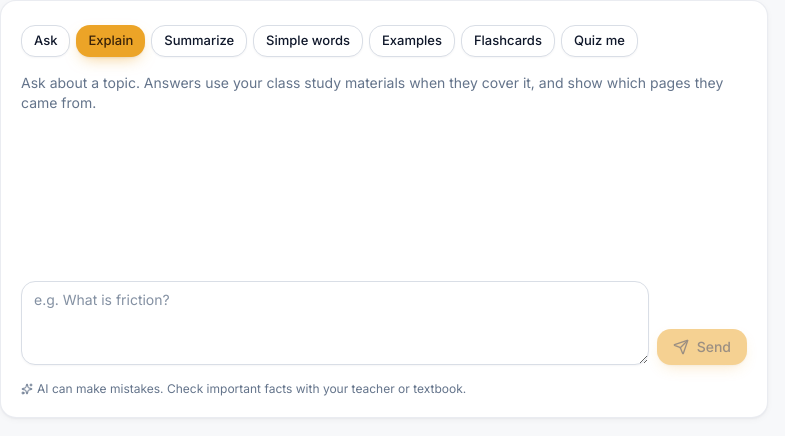
StudyAssistantTab › shows errors in the conversation
Type "x" into the text box named "Study question" at (335, 323), box [21, 281, 649, 365]
Then press Enter
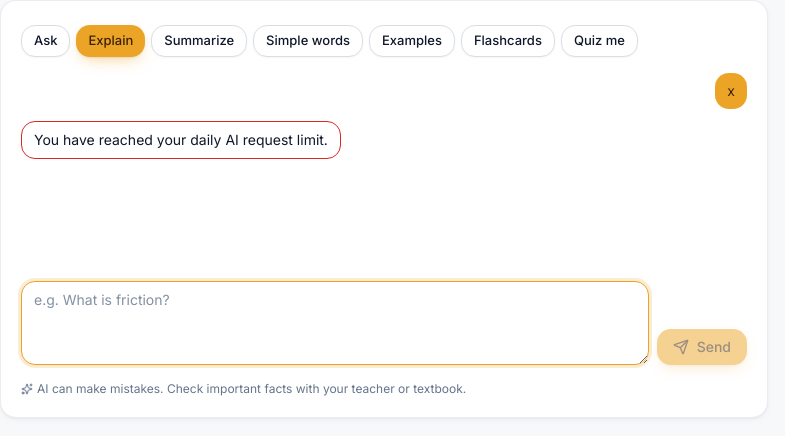
Expected: the text "You have reached your daily AI request limit." is shown, [34, 130, 328, 150]
